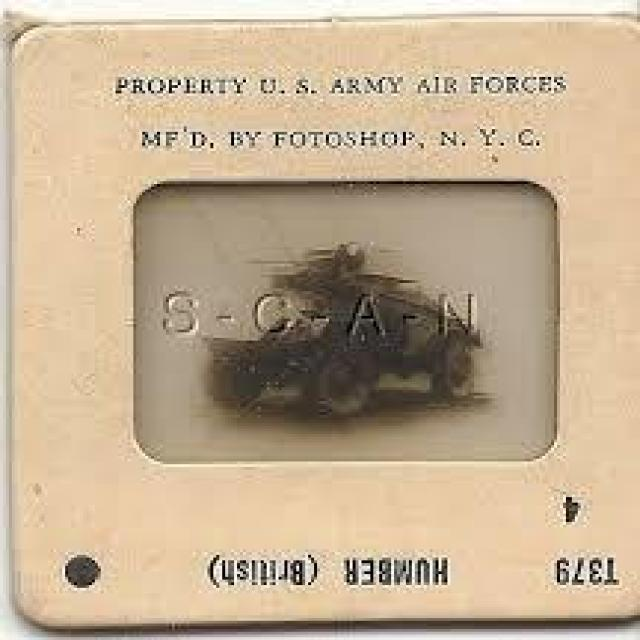Tanks: (188, 220, 523, 439)
